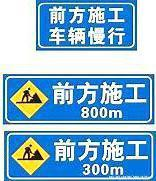sign: (5, 132, 152, 180), (5, 76, 153, 123), (36, 2, 135, 50)
